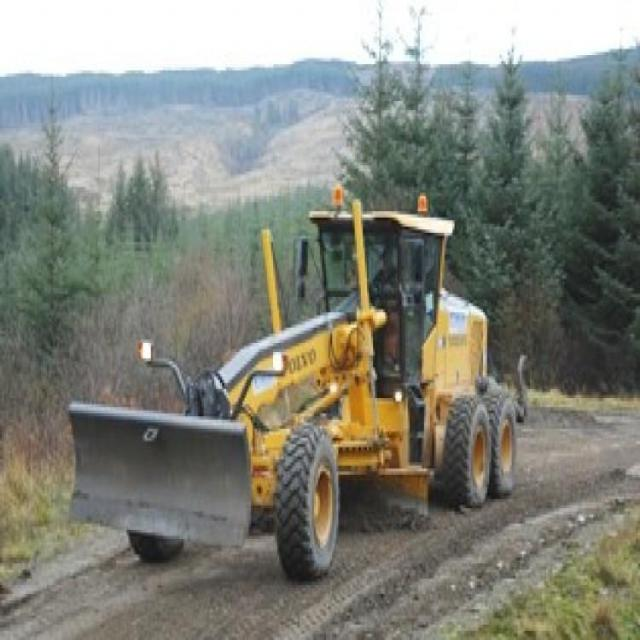Grader: (54, 189, 522, 575)
